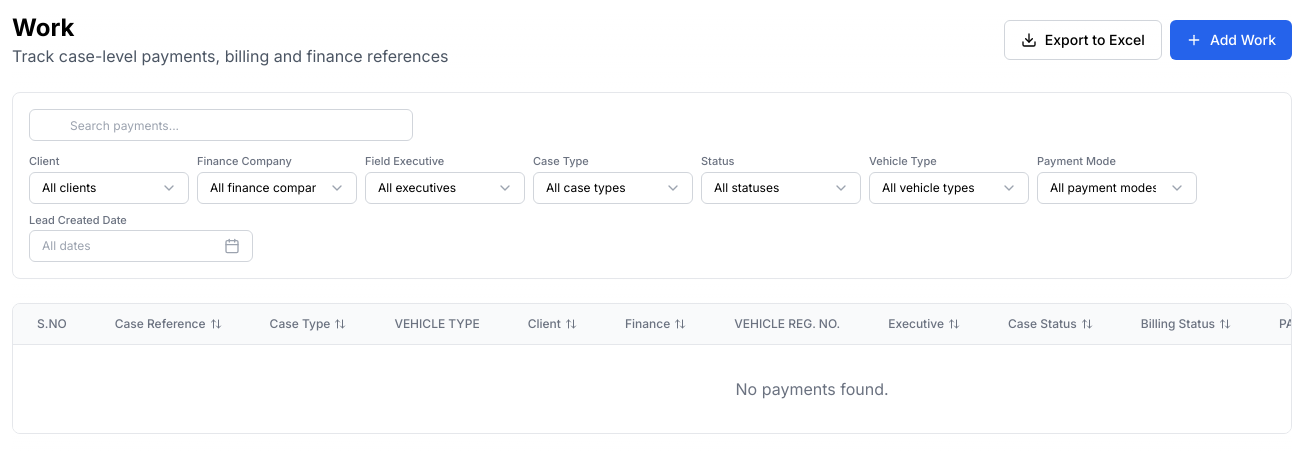
PaymentsPageClient › filter bar (Client / Finance / Field Executive / date range) › shows a Clear Filters button once a filter is active, and clears all filters on click
Expected: the button "clear filters" is not shown
Step 1. Select "Acme Insurance" in the dropdown labelled "Client" → x=109, y=188, box [29, 172, 189, 204]
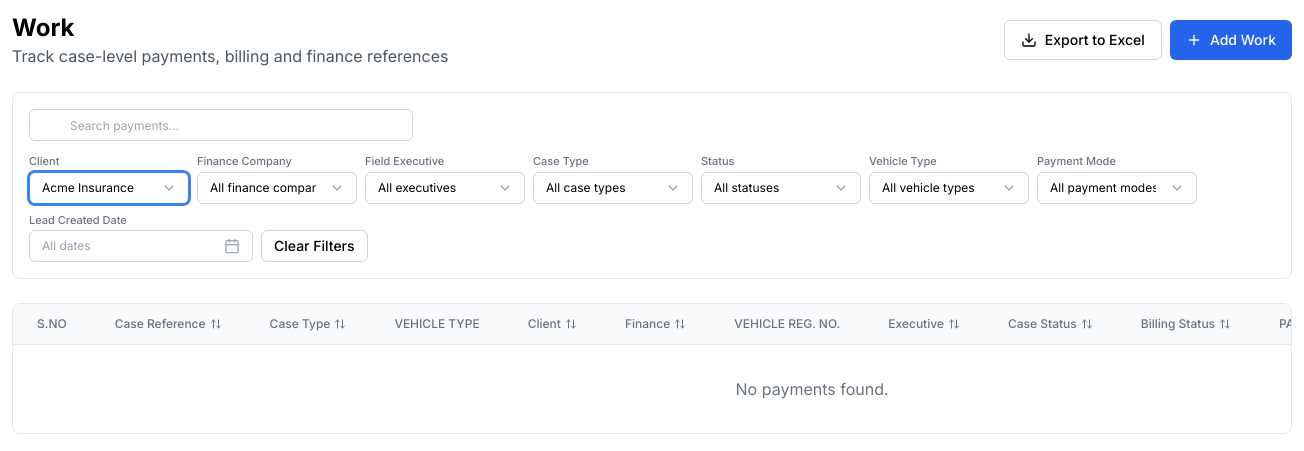
Step 2. Click the button "Clear Filters" → x=314, y=246, box [261, 230, 368, 262]
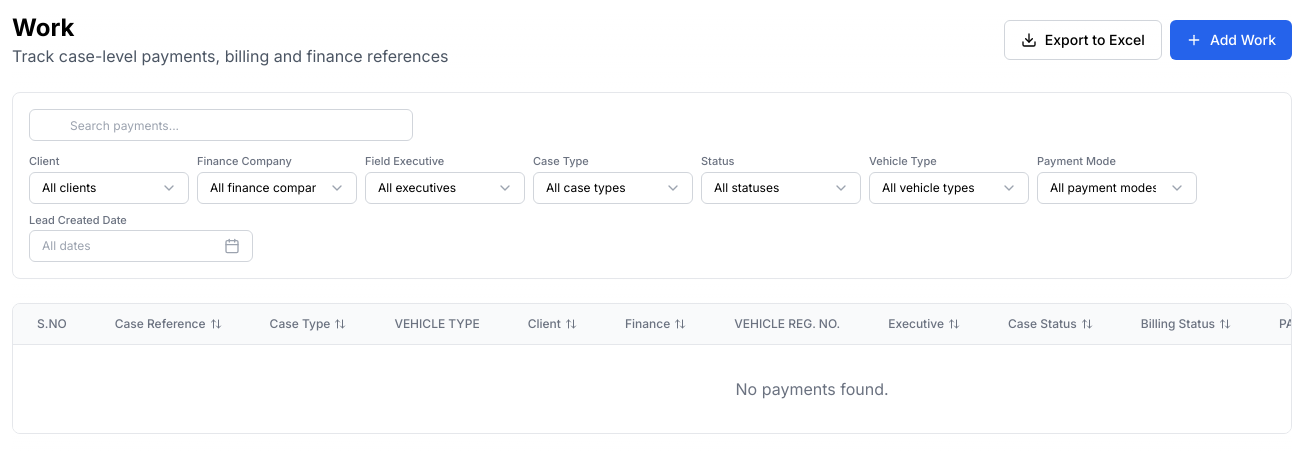
Now the button "Clear Filters" is gone
